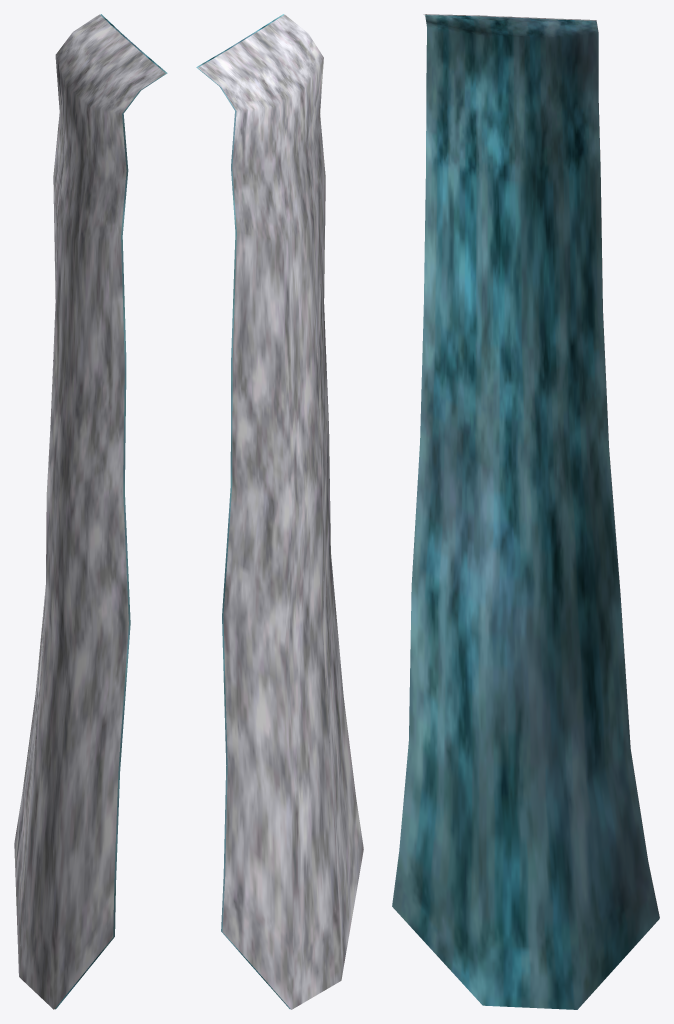
Rendered from OVERHILL_A_01_WATERFALLS05.fbx.
The picture shows the model from 3 angles, left to right: view 1: azimuth 30°, elevation 25°; view 2: azimuth 150°, elevation 25°; view 3: azimuth 270°, elevation 25°; orthographic projection. The views are drawn at different scales.
Visible parts, largest first — view 1: OVERHILL_A_01_WATERFALLS05; view 2: OVERHILL_A_01_WATERFALLS05; view 3: OVERHILL_A_01_WATERFALLS05.
Boxes of the visible parts, x1,y1,x2,y2 form: OVERHILL_A_01_WATERFALLS05: [14, 14, 167, 1009]; OVERHILL_A_01_WATERFALLS05: [196, 14, 363, 1009]; OVERHILL_A_01_WATERFALLS05: [392, 14, 659, 1009].
Bounding box in the file's own units: 23385 × 215450 × 50463.
2 materials, 2 textured.
